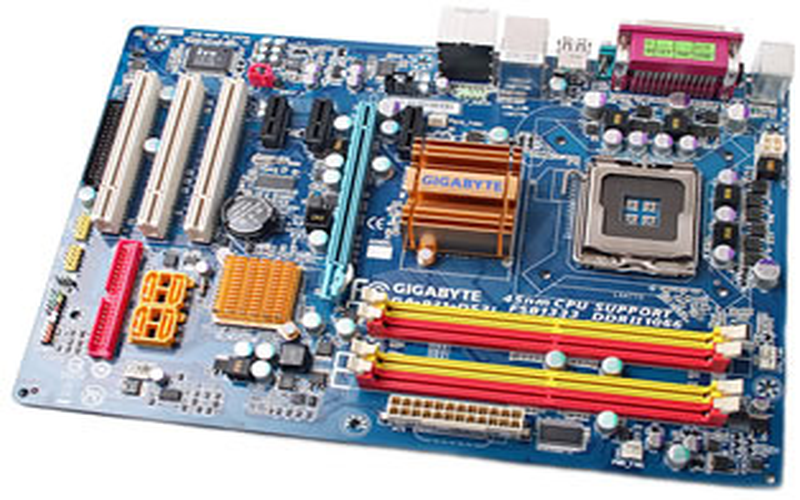Cirtuit-Board: (8, 18, 800, 496)
